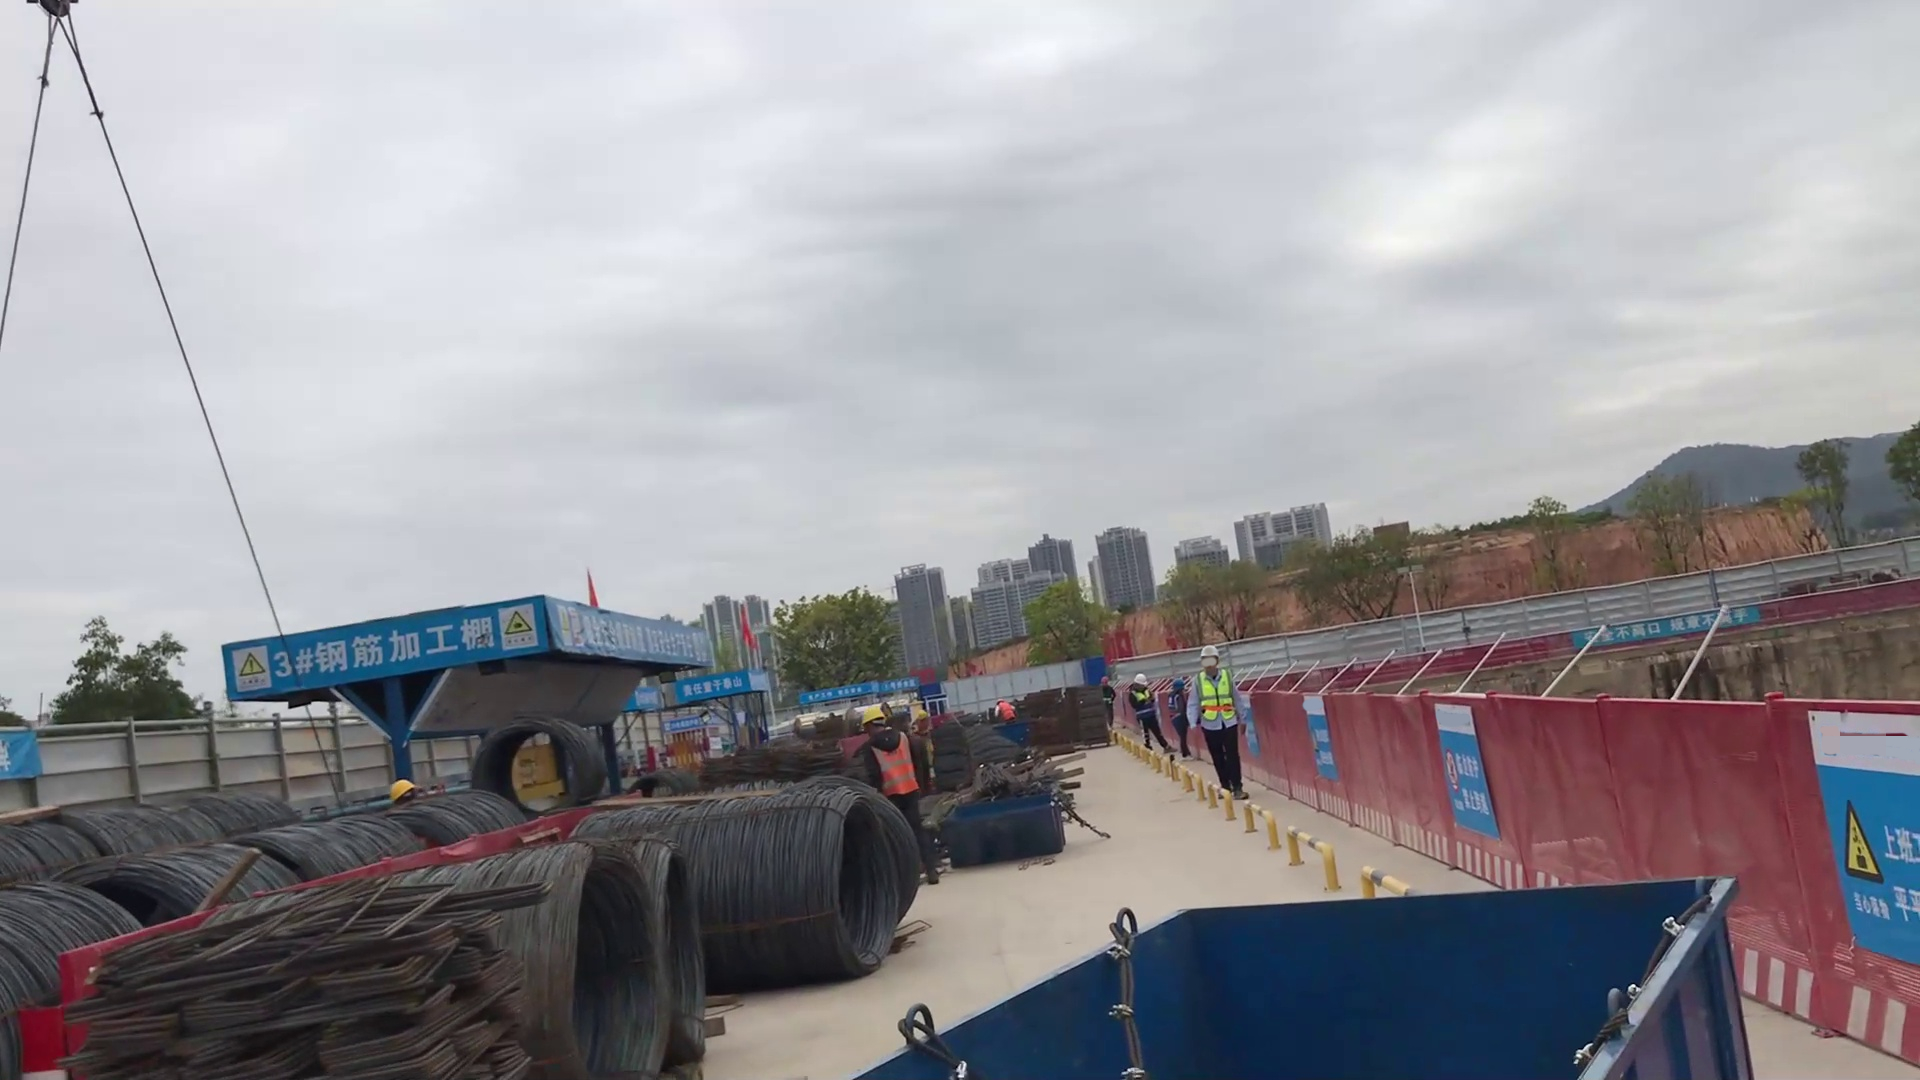fence: (1246, 669, 1920, 1032)
helmet: (385, 773, 422, 808), (859, 704, 888, 731), (1197, 643, 1222, 663), (1167, 675, 1188, 694), (1130, 671, 1151, 689), (1099, 675, 1114, 687), (994, 695, 1007, 707)
hopper: (838, 859, 1786, 1080), (941, 781, 1072, 886)
person: (850, 702, 945, 889), (1189, 639, 1257, 804), (1125, 669, 1175, 759), (1161, 673, 1196, 762), (1097, 673, 1121, 733), (987, 694, 1018, 727)
slogan: (1802, 708, 1920, 965), (1422, 695, 1510, 848), (1573, 606, 1762, 653), (1300, 688, 1343, 788), (679, 669, 749, 703)
vest: (871, 730, 922, 804), (1195, 669, 1234, 723), (1133, 687, 1157, 717), (1167, 692, 1182, 722), (997, 702, 1014, 721)
